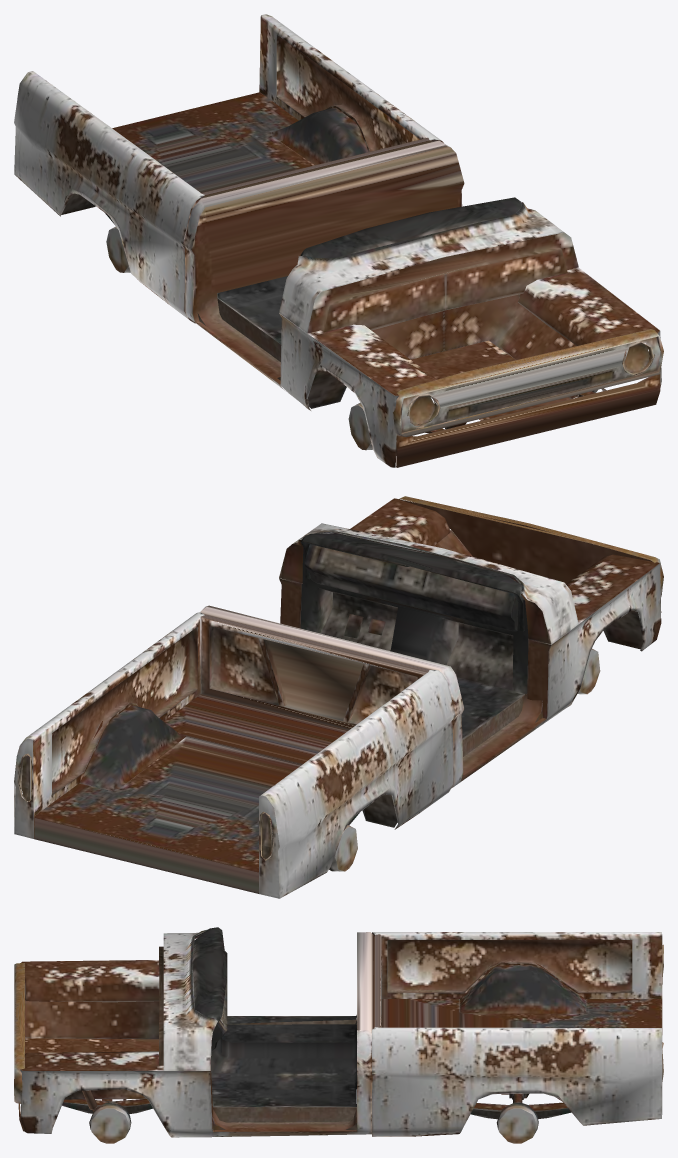
The model's file is pickup_truck_d_yellow.glb.
3 renders of one model, top to bottom at view 1: azimuth 30°, elevation 25°; view 2: azimuth 150°, elevation 25°; view 3: azimuth 270°, elevation 25°, orthographic. The views are drawn at different scales.
Visible parts, largest first — view 1: pickup_truck_d_LOD0; view 2: pickup_truck_d_LOD0; view 3: pickup_truck_d_LOD0.
Boxes of the visible parts, x1,y1,x2,y2 form: pickup_truck_d_LOD0: (14,14,663,467); pickup_truck_d_LOD0: (14,496,663,898); pickup_truck_d_LOD0: (14,927,663,1143).
Size of the model in its own units: 2.4 by 1.28 by 5.78.
Materials: 1 (1 with a texture image).
